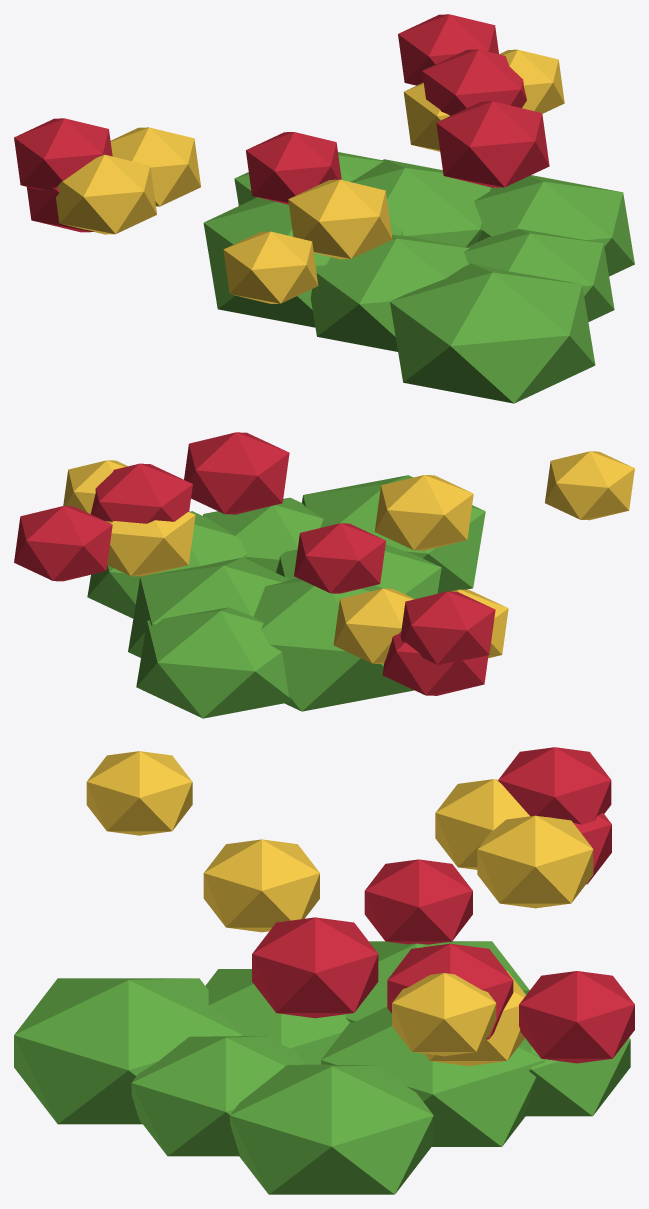
The model's file is wildflowers_3.glb.
3 views of the same model, one above another, from view 1: azimuth 30°, elevation 25°; view 2: azimuth 150°, elevation 25°; view 3: azimuth 270°, elevation 25° (orthographic). The views are drawn at different scales.
Parts seen in each view (by area): view 1: leaves1, berry, flower_yellow; view 2: leaves1, berry, flower_yellow; view 3: leaves1, berry, flower_yellow.
Part boxes in pixels (bbox=[...]): leaves1: bbox=[203, 152, 634, 403]; berry: bbox=[14, 14, 549, 232]; flower_yellow: bbox=[55, 49, 564, 303]; leaves1: bbox=[87, 475, 485, 718]; berry: bbox=[14, 432, 495, 695]; flower_yellow: bbox=[63, 451, 634, 663]; leaves1: bbox=[14, 941, 630, 1194]; berry: bbox=[252, 747, 634, 1063]; flower_yellow: bbox=[86, 751, 593, 1066].
Bounding box in the file's own units: 0.8155 × 0.3373 × 0.742.
